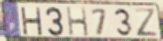3: (114, 7, 134, 38), (45, 6, 64, 38)
7: (91, 8, 109, 37)
H: (66, 7, 90, 38), (20, 6, 43, 37)
Z: (133, 8, 160, 38)
